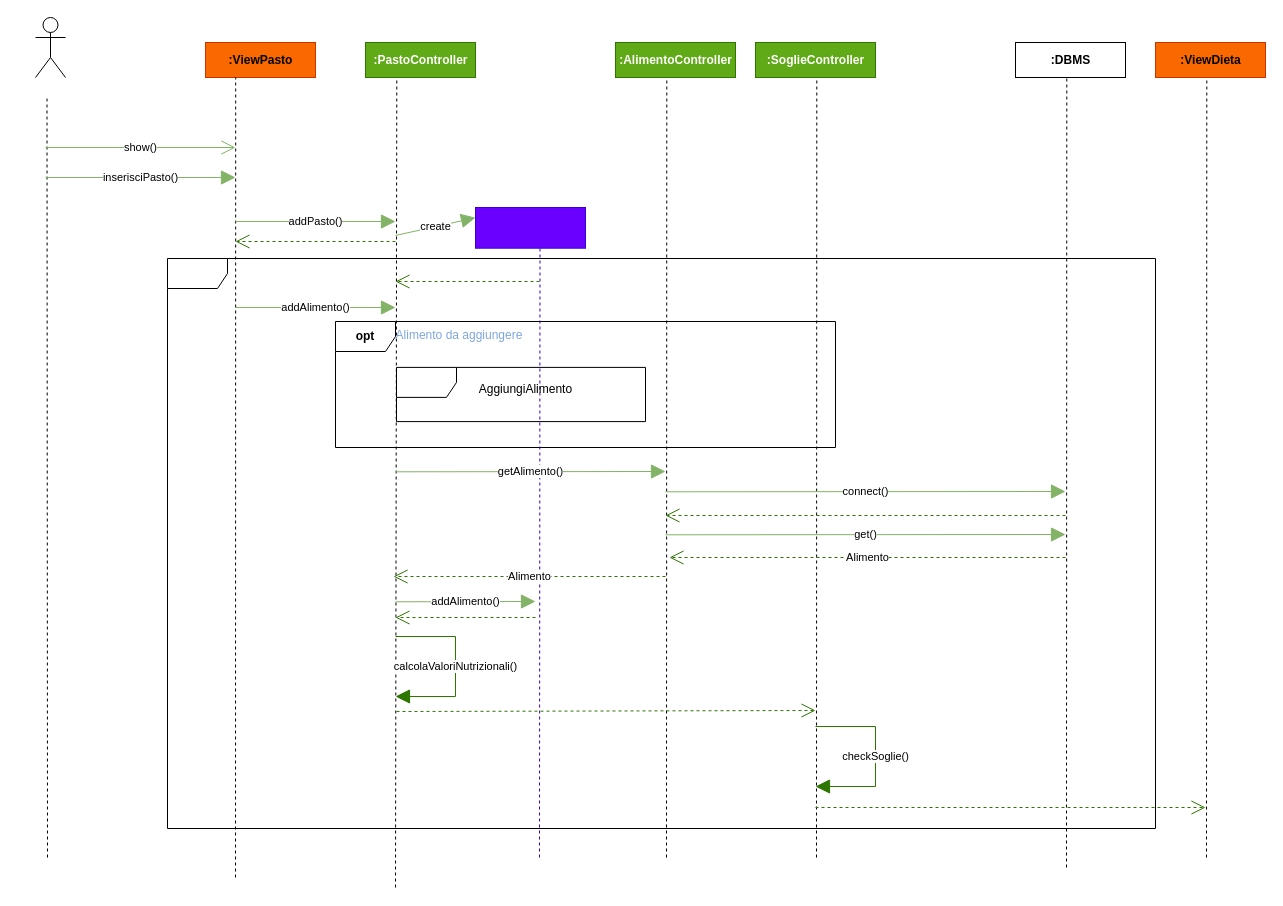
This 1283x906 diagram has some shape labels left out. The shapes that lost their labels are listed below. From the top down, each one's box as (x1, y1, x2, y2) in pixels, then its label:
(34, 16, 66, 78): Nutrizionista
(474, 206, 586, 248): :Pasto
(396, 366, 646, 422): ref
(166, 258, 1156, 828): loop
